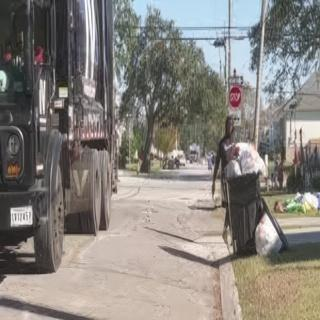Garbage: (253, 212, 281, 256), (239, 146, 266, 171), (301, 190, 317, 212)
